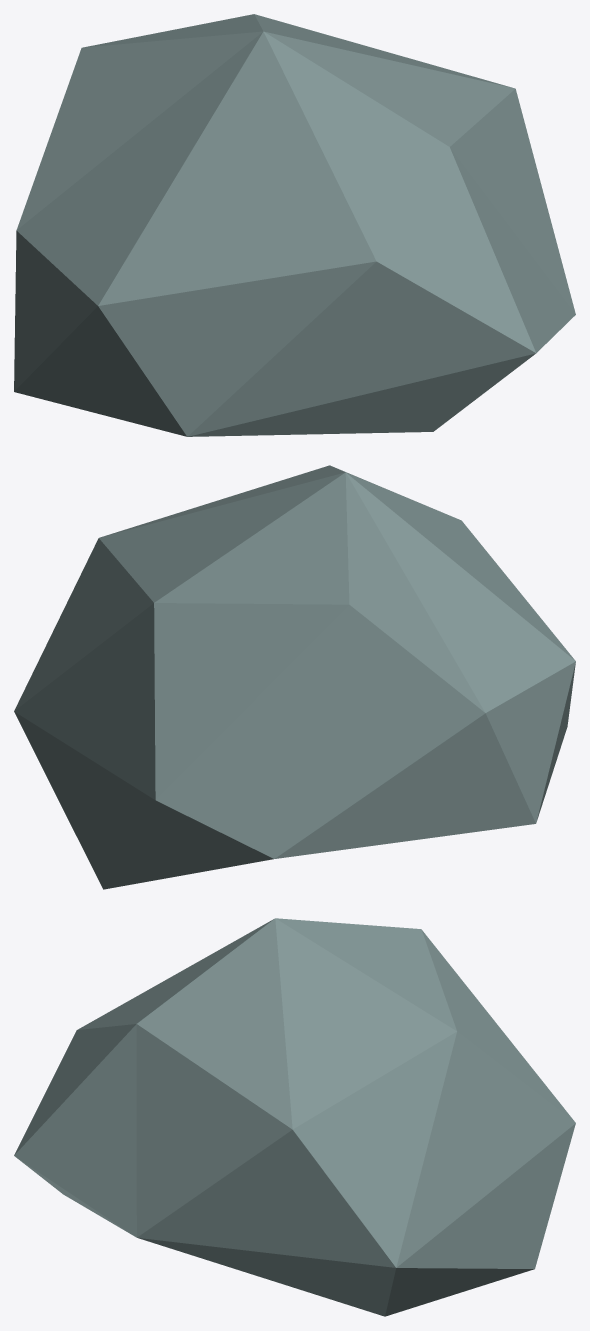
Rendered from rock1.glb.
3 renders of one model, top to bottom at view 1: azimuth 30°, elevation 25°; view 2: azimuth 150°, elevation 25°; view 3: azimuth 270°, elevation 25°, orthographic. The views are drawn at different scales.
Parts seen in each view (by area): view 1: Icosphere.001; view 2: Icosphere.001; view 3: Icosphere.001.
Part boxes in pixels (left/top/right/bottom): Icosphere.001: left=14, top=14, right=575, bottom=436; Icosphere.001: left=14, top=465, right=575, bottom=889; Icosphere.001: left=14, top=918, right=575, bottom=1316.
Bounding box in the file's own units: 2.2 × 1.5 × 2.49.
